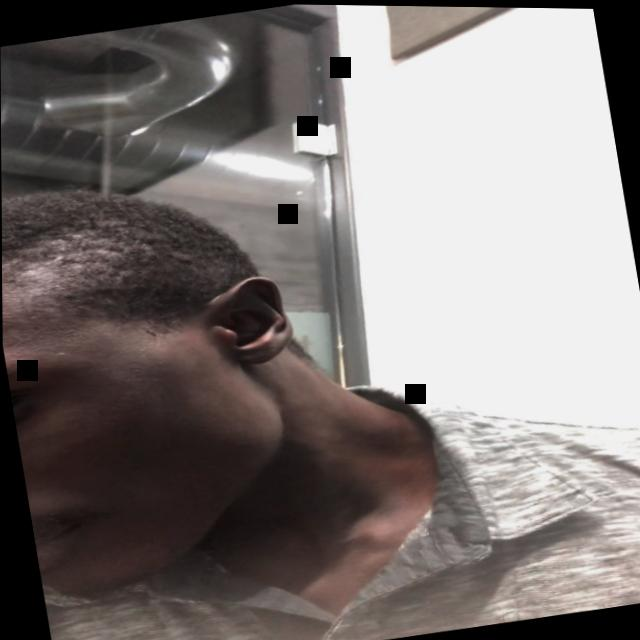NO-Mask: (1, 257, 307, 602)
